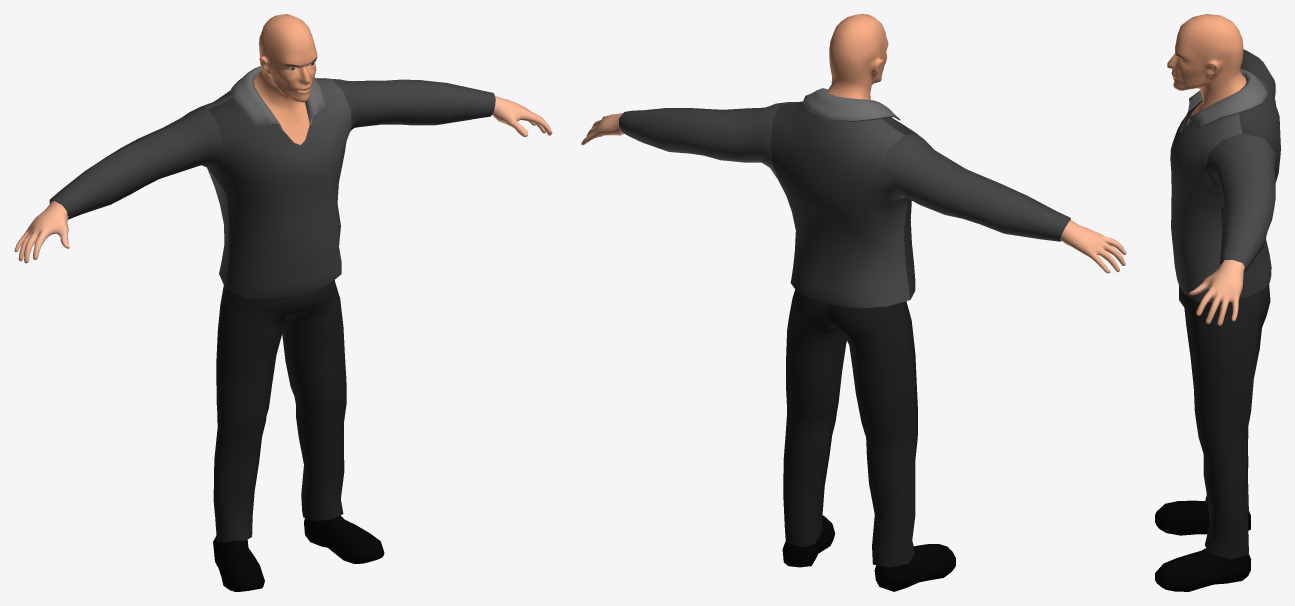
Rendered from suclu_face.FBX.
3 views of the same model, side by side, from view 1: azimuth 30°, elevation 25°; view 2: azimuth 150°, elevation 25°; view 3: azimuth 270°, elevation 25° (orthographic).
Visible parts, largest first — view 1: suclu_face; view 2: suclu_face; view 3: suclu_face.
Boxes of the visible parts, bbox=[...] form: suclu_face: bbox=[14, 14, 552, 591]; suclu_face: bbox=[581, 14, 1126, 591]; suclu_face: bbox=[1155, 14, 1280, 591].
Bounding box in the file's own units: 187 × 184 × 38.9.
